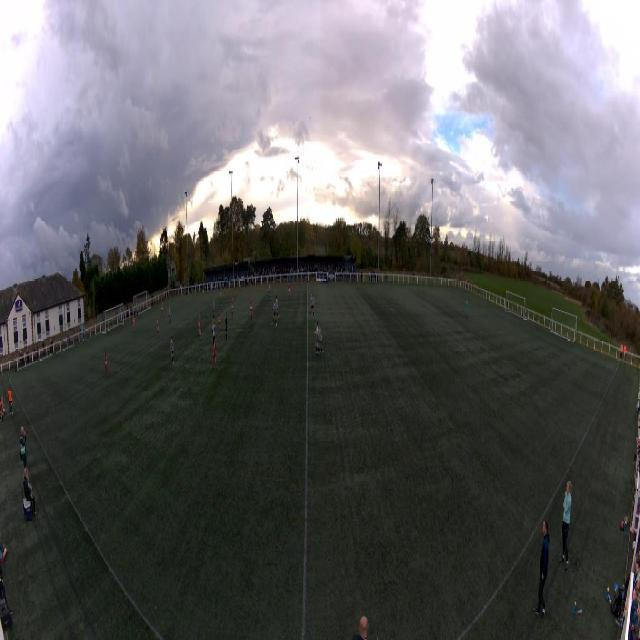ball: (133, 320, 134, 324)
player: (314, 323, 323, 355), (309, 294, 316, 319), (272, 300, 278, 328), (212, 340, 217, 371), (170, 336, 174, 365), (104, 350, 108, 378), (198, 314, 202, 341), (217, 309, 221, 334), (249, 296, 253, 321), (275, 296, 279, 318), (212, 319, 216, 340), (225, 314, 228, 341), (465, 297, 469, 317), (231, 298, 234, 319), (212, 300, 215, 321), (267, 286, 271, 301), (168, 306, 171, 324), (157, 313, 159, 337), (288, 283, 291, 299), (219, 292, 222, 307), (133, 316, 135, 332), (161, 303, 163, 318)
